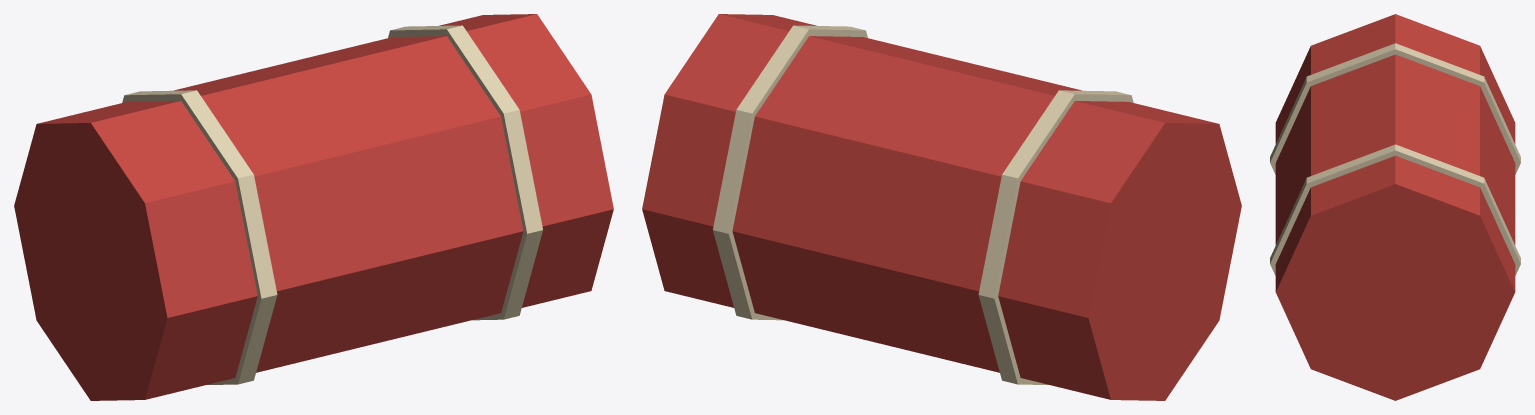
The model's file is prop_cargo_bale.glb.
3 renders of one model, left to right at view 1: azimuth 30°, elevation 25°; view 2: azimuth 150°, elevation 25°; view 3: azimuth 270°, elevation 25°, orthographic. The views are drawn at different scales.
Visible parts, largest first — view 1: prop_cargo_bale; view 2: prop_cargo_bale; view 3: prop_cargo_bale.
Part boxes in pixels (x1,y1,x2,y2): prop_cargo_bale: (14,14,613,400); prop_cargo_bale: (642,14,1241,400); prop_cargo_bale: (1270,14,1520,400).
Bounding box in the file's own units: 0.84 × 0.524 × 0.524.
